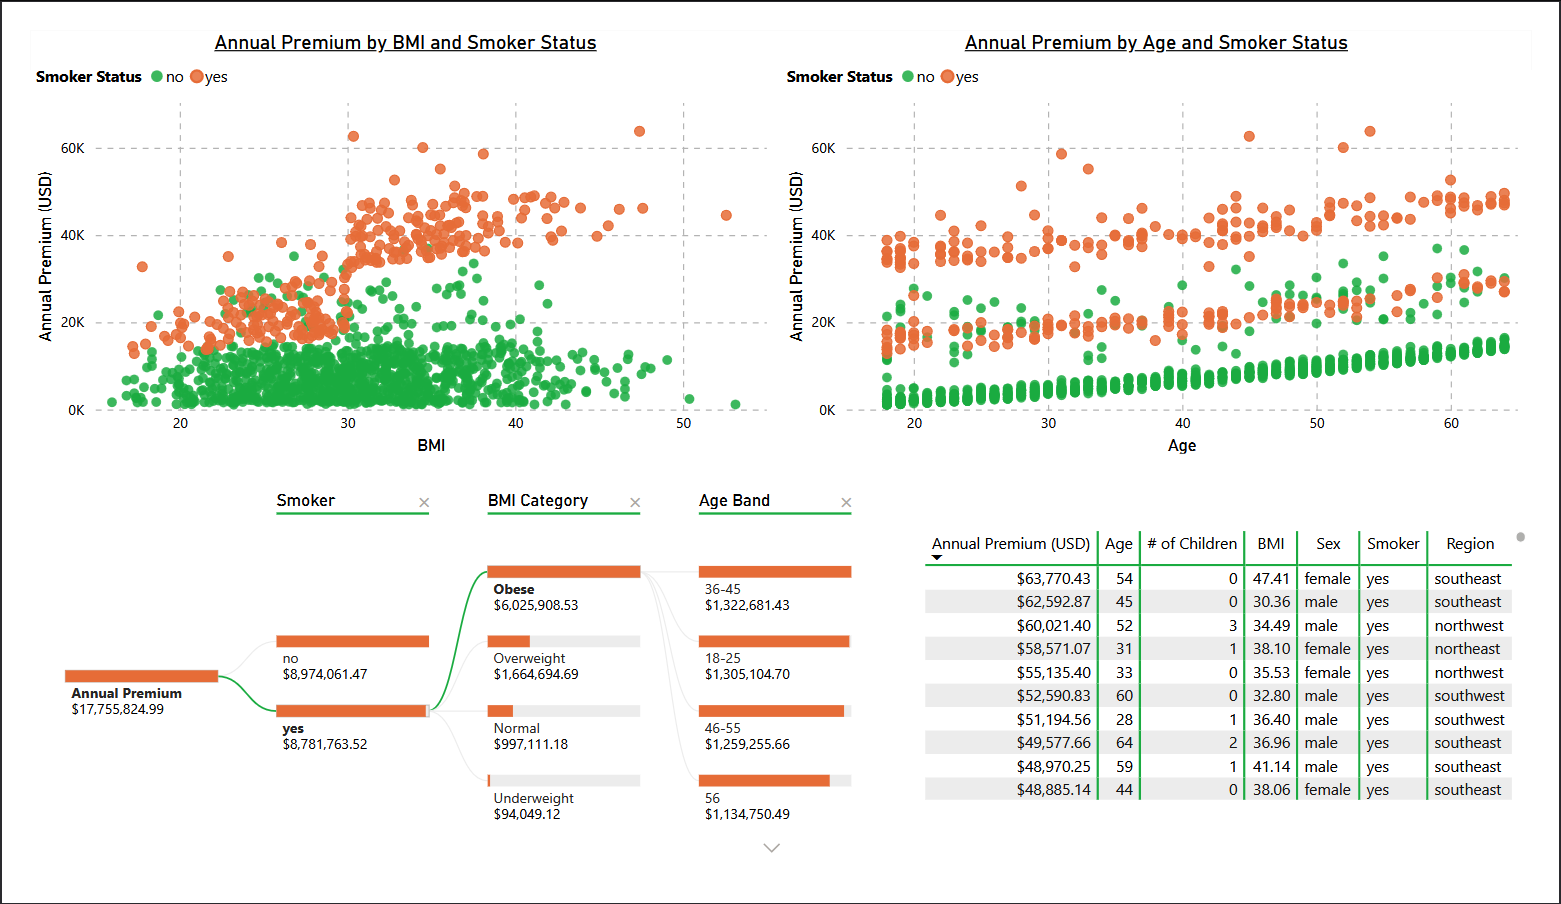

What the dashboard file says about the page in this screenshot:
{"tool":"powerbi","page":{"name":"Underwriting Deep-Dive","canvas":[1280,720],"ordinal":1},"visuals":[{"type":"scatterChart","title":"Annual Premium by BMI and Smoker Status","fields":{"X":["insurance.BMI"],"Y":["insurance.Annual Premium (USD)"],"Series":["insurance.Smoker"]},"box":[0,0,640.2,366.3],"z":0},{"type":"scatterChart","title":"Annual Premium by Age and Smoker Status","fields":{"X":["insurance.Age"],"Y":["insurance.Annual Premium (USD)"],"Series":["insurance.Smoker"]},"box":[640.2,0,640.2,366.3],"z":1000},{"type":"tableEx","fields":{"Values":["insurance.Annual Premium (USD)","insurance.Age","insurance.# of Children","insurance.BMI","insurance.Sex","insurance.Smoker","insurance.Region"]},"box":[756.8,421.7,523.2,229.4],"z":2000},{"type":"decompositionTreeVisual","fields":{"Analyze":["Sum(insurance.Annual Premium (USD))"],"ExplainBy":["insurance.Smoker","insurance.BMI Category","insurance.Age Band"]},"box":[0,376.3,757.2,343.7],"z":3000}]}

Visuals, with their boxes in screenshot pixels (x1, y1, x2, y2), scaled from the page's 1280x720 canvas onto the 1561x904 screenshot:
"Annual Premium by BMI and Smoker Status" scatterChart: x1=0 y1=0 x2=781 y2=460
"Annual Premium by Age and Smoker Status" scatterChart: x1=781 y1=0 x2=1560 y2=460
tableEx - insurance.Annual Premium (USD) x insurance.Age: x1=923 y1=529 x2=1560 y2=817
decompositionTreeVisual - Sum(insurance.Annual Premium (USD)) x insurance.Smoker: x1=0 y1=472 x2=923 y2=903
